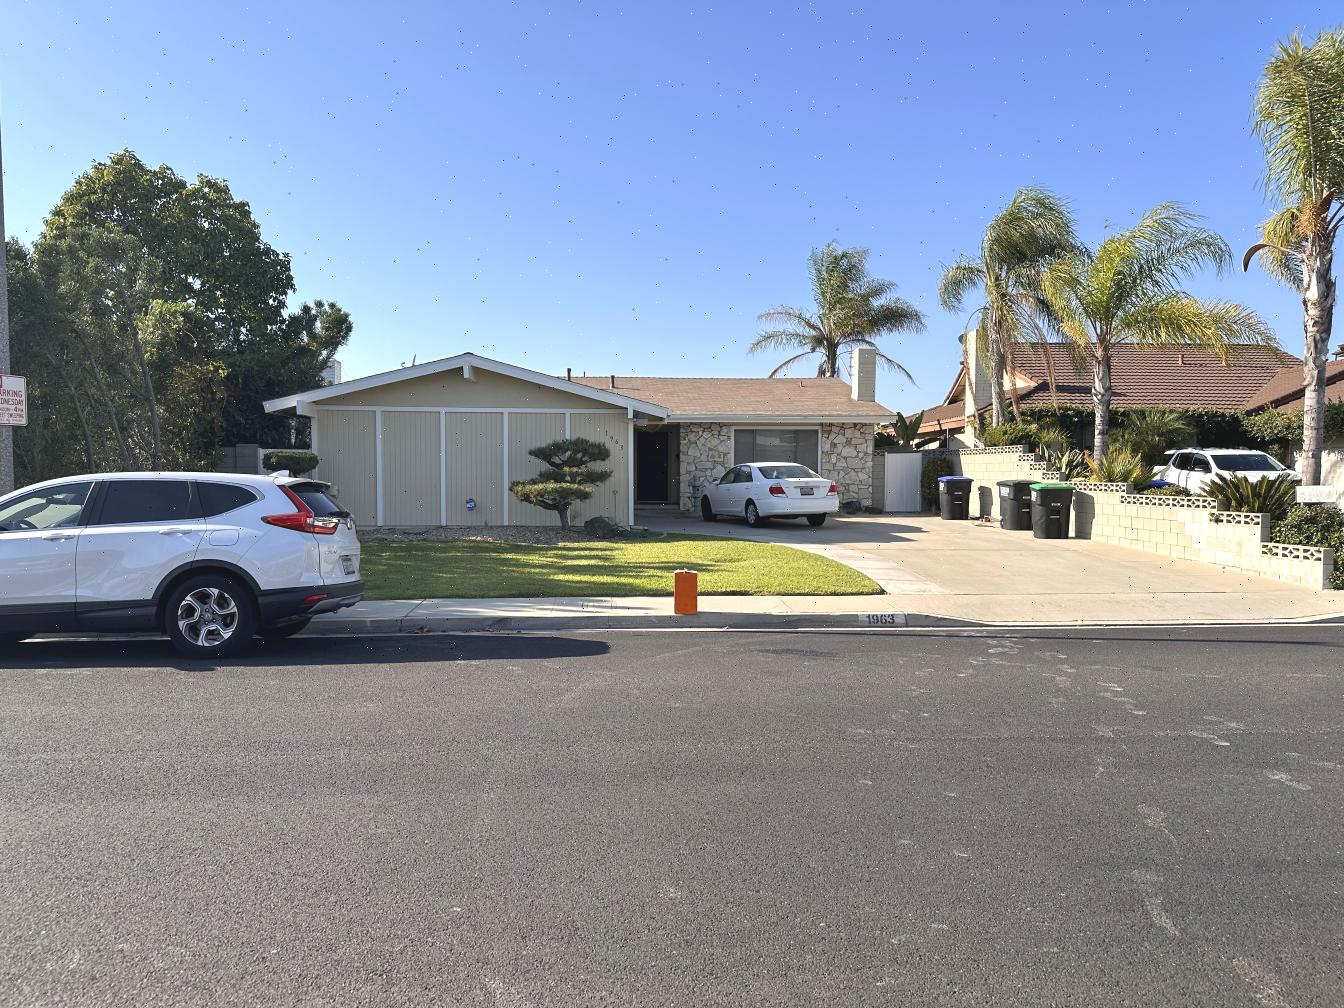curbs-laRr: (358, 612, 673, 632), (670, 611, 912, 632)
orange box: (675, 572, 700, 615)
